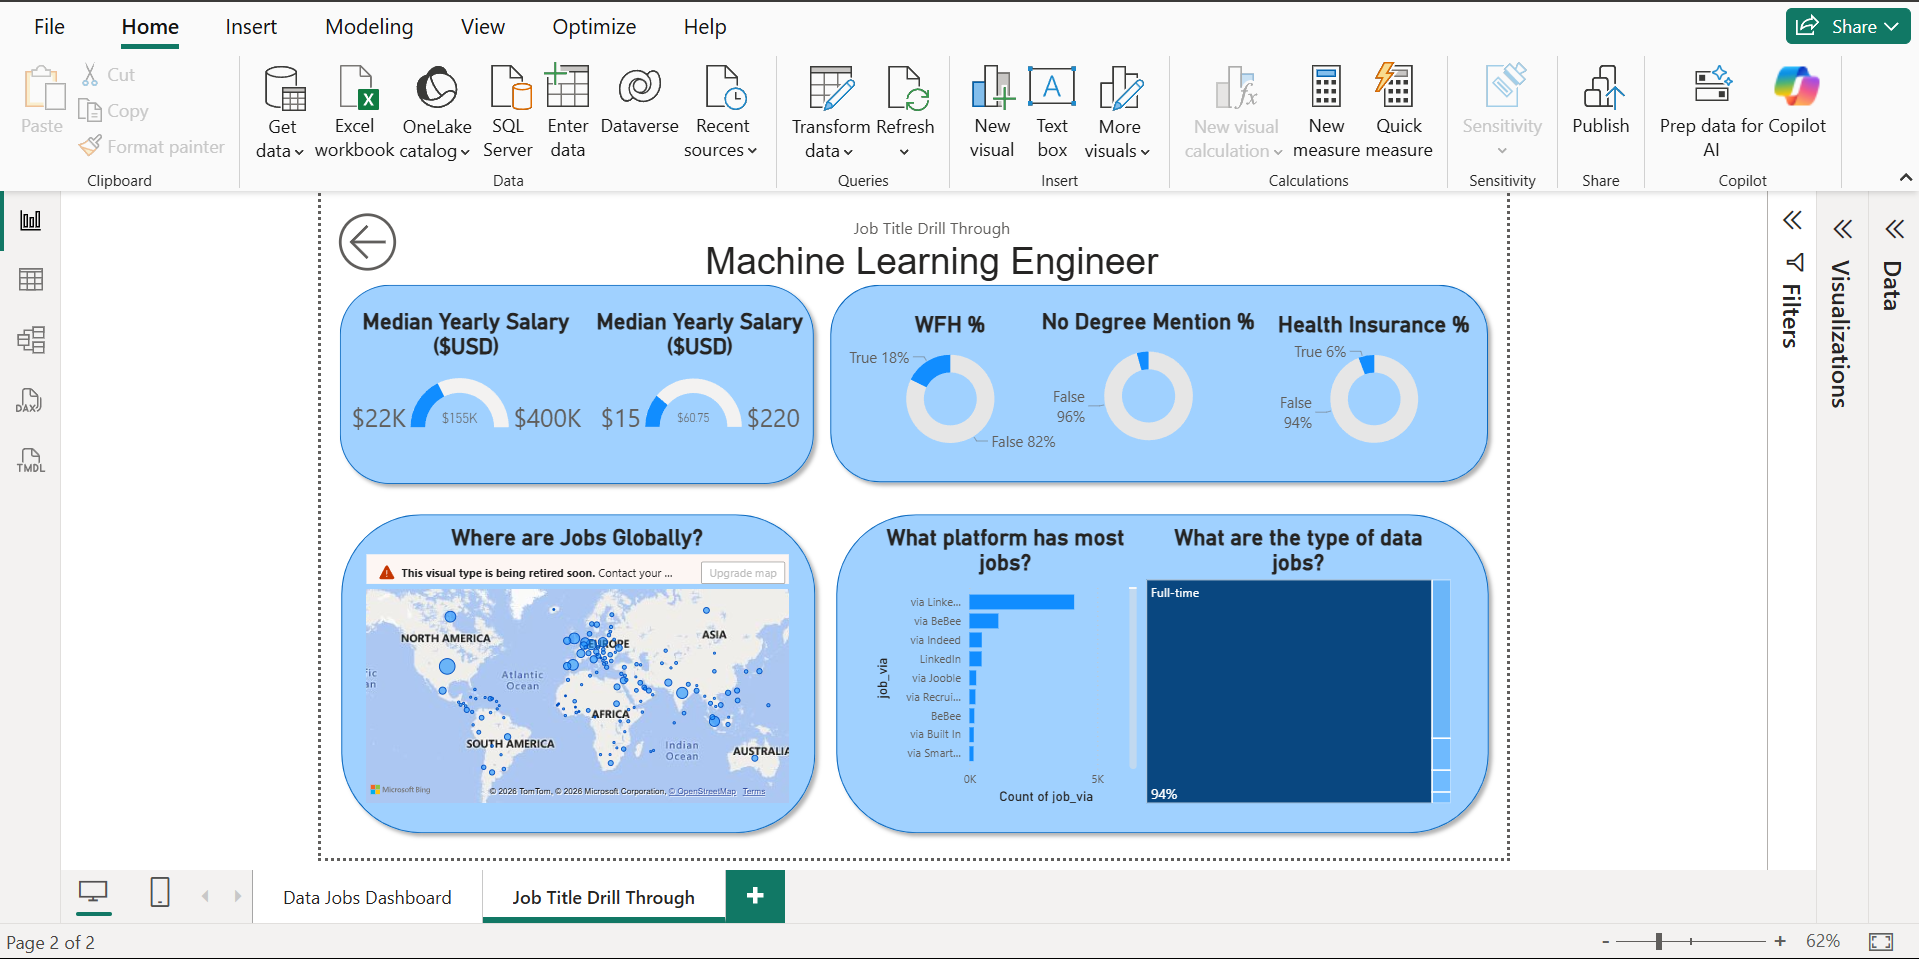

This screenshot's page, from the dashboard's own definition file:
{"tool":"powerbi","page":{"name":"Job Title Drill Through","canvas":[1280,720],"ordinal":1},"visuals":[{"type":"group","id":"g1","title":"Background","box":[11.6,92.4,1258.4,609.6],"z":0},{"type":"shape","box":[11.6,92.4,529.6,233],"z":0,"group":"g1"},{"type":"cardVisual","fields":{"Data":["Min(job_postings_flat.job_title_short)1"]},"box":[95.5,0,1128.6,126.3],"z":1000},{"type":"shape","box":[541.2,92.4,728,231.1],"z":1000,"group":"g1"},{"type":"actionButton","box":[11.3,16.2,84.2,77.7],"z":2000},{"type":"shape","box":[12.5,340,529.6,362.1],"z":2000,"group":"g1"},{"type":"gauge","title":"Median Yearly Salary ($USD) ","fields":{"Y":["Median(job_postings_flat.salary_year_avg)"],"MinValue":["Min(job_postings_flat.salary_year_avg)1"],"MaxValue":["Max(job_postings_flat.salary_year_avg)2"]},"box":[23.1,127.1,267.7,154.1],"z":3000},{"type":"shape","box":[547.8,340,722.2,362.1],"z":3000,"group":"g1"},{"type":"gauge","title":"Median Yearly Salary ($USD) ","fields":{"Y":["Median(job_postings_flat.salary_hour_avg)"],"MinValue":["Min(job_postings_flat.salary_hour_avg)1"],"MaxValue":["Max(job_postings_flat.salary_hour_avg)2"]},"box":[290.8,127.1,234.9,154.1],"z":4000},{"type":"donutChart","title":"WFH %","fields":{"Category":["job_postings_flat.job_work_from_home"],"Y":["CountNonNull(job_postings_flat.job_work_from_home)"]},"box":[558.5,129,240.7,161.8],"z":5000},{"type":"donutChart","title":"No Degree Mention %","fields":{"Category":["job_postings_flat.job_no_degree_mention"],"Y":["CountNonNull(job_postings_flat.job_no_degree_mention)"]},"box":[766.5,127.1,254.2,161.8],"z":6000},{"type":"donutChart","title":"Health Insurance %","fields":{"Category":["job_postings_flat.job_health_insurance"],"Y":["CountNonNull(job_postings_flat.job_health_insurance)"]},"box":[1020.7,129,233,161.8],"z":7000},{"type":"map","title":"Where are Jobs Globally?","fields":{"Category":["job_postings_flat.job_country"],"Size":["CountNonNull(job_postings_flat.job_title_short)"]},"box":[44.3,360.1,466,306.2],"z":8000},{"type":"treemap","title":"What are the type of data jobs?","fields":{"Group":["job_postings_flat.job_schedule_type"],"Values":["CountNonNull(job_postings_flat.job_schedule_type)"]},"box":[885.9,360.1,338.9,306.2],"z":9000},{"type":"clusteredBarChart","title":"What platform has most jobs?","fields":{"Category":["job_postings_flat.job_via"],"Y":["CountNonNull(job_postings_flat.job_via)"]},"box":[593.1,360.1,292.7,306.2],"z":10000}]}

Visuals, with their boxes on the page's 1280x720 design canvas (x1, y1, x2, y2). These are canvas units, not pixel positions in the 1919x959 screenshot, which may show the page scaled, cropped or inside an application window:
"Background" group: select_region(12, 92, 1270, 702)
shape: select_region(12, 92, 541, 325)
cardVisual - Min(job_postings_flat.job_title_short)1: select_region(96, 0, 1224, 126)
shape: select_region(541, 92, 1269, 324)
actionButton: select_region(11, 16, 96, 94)
shape: select_region(12, 340, 542, 702)
"Median Yearly Salary ($USD) " gauge: select_region(23, 127, 291, 281)
shape: select_region(548, 340, 1270, 702)
"Median Yearly Salary ($USD) " gauge: select_region(291, 127, 526, 281)
"WFH %" donutChart: select_region(558, 129, 799, 291)
"No Degree Mention %" donutChart: select_region(766, 127, 1021, 289)
"Health Insurance %" donutChart: select_region(1021, 129, 1254, 291)
"Where are Jobs Globally?" map: select_region(44, 360, 510, 666)
"What are the type of data jobs?" treemap: select_region(886, 360, 1225, 666)
"What platform has most jobs?" clusteredBarChart: select_region(593, 360, 886, 666)
